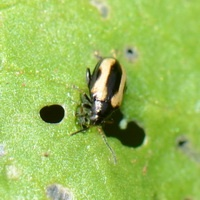insect: (71, 57, 125, 134)
